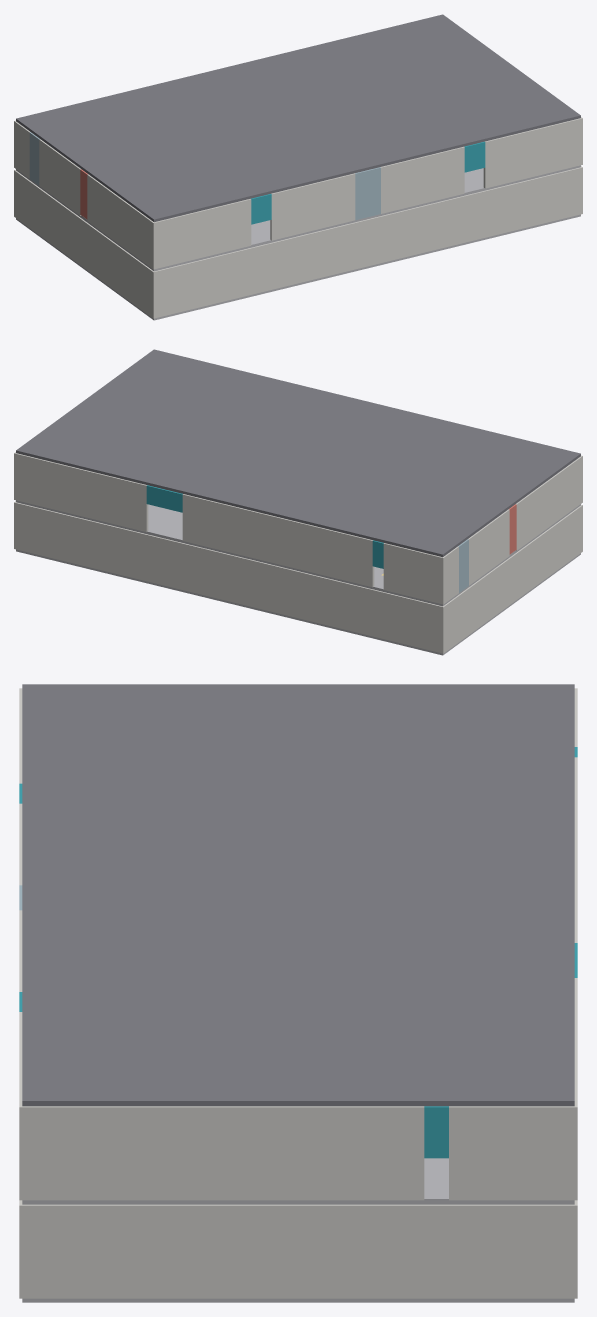
File: train_yard_a02.glb
3 renders of one model, top to bottom at view 1: azimuth 30°, elevation 25°; view 2: azimuth 150°, elevation 25°; view 3: azimuth 270°, elevation 25°, orthographic. The views are drawn at different scales.
Visible parts, largest first — view 1: slab_1_t0_0, slab_1_t0_4, slab_1_t0_1, slab_1_t0_2, slab_1_t0_3, slab_1_t0_7, slab_1_t0_8, slab_1_t0_5, slab_1_t0_9, slab_1_t0_6, slab_1_t1_0, slab_1_t2_0 (+126 smaller); view 2: slab_1_t5_0, slab_1_t5_4, slab_1_t5_1, slab_1_t5_2, slab_1_t5_3, slab_1_t5_7, slab_1_t5_8, slab_1_t5_5, slab_1_t5_9, slab_1_t5_6, slab_1_t0_0, slab_1_t3_0 (+122 smaller); view 3: slab_1_t2_9, slab_1_t0_9, slab_1_t1_9, slab_1_t3_9, slab_1_t4_9, slab_1_t5_9, slab_1_t2_2, slab_1_t2_5, slab_1_t2_8, slab_1_t0_2, slab_1_t0_5, slab_1_t0_8 (+77 smaller).
Boxes of the visible parts, x1,y1,x2,y2 form: slab_1_t0_0: (131,192,196,222); slab_1_t0_4: (302,150,367,180); slab_1_t0_1: (174,182,239,211); slab_1_t0_2: (217,171,281,201); slab_1_t0_3: (259,161,324,190); slab_1_t0_7: (430,119,495,149); slab_1_t0_8: (473,109,538,138); slab_1_t0_5: (345,140,410,169); slab_1_t0_9: (515,98,580,128); slab_1_t0_6: (387,130,452,159); slab_1_t1_0: (108,175,172,204); slab_1_t2_0: (85,158,150,188); slab_1_t5_0: (400,527,465,557); slab_1_t5_4: (229,485,294,515); slab_1_t5_1: (357,517,422,546); slab_1_t5_2: (315,506,379,536); slab_1_t5_3: (272,496,337,525); slab_1_t5_7: (101,454,166,484); slab_1_t5_8: (58,444,123,473); slab_1_t5_5: (186,475,251,504); slab_1_t5_9: (16,433,81,463); slab_1_t5_6: (144,465,209,494); slab_1_t0_0: (516,443,580,472); slab_1_t3_0: (446,493,511,523); slab_1_t2_9: (206,1059,298,1106); slab_1_t0_9: (22,1059,114,1106); slab_1_t1_9: (114,1059,206,1106); slab_1_t3_9: (298,1059,390,1106); slab_1_t4_9: (390,1059,482,1106); slab_1_t5_9: (482,1059,574,1106); slab_1_t2_2: (206,767,298,809); slab_1_t2_5: (206,892,298,934); slab_1_t2_8: (206,1017,298,1059); slab_1_t0_2: (22,767,114,809); slab_1_t0_5: (22,892,114,934); slab_1_t0_8: (22,1017,114,1059).
Size of what is drawn, in the model's own units: 50.3 by 11.3 by 28.3.
